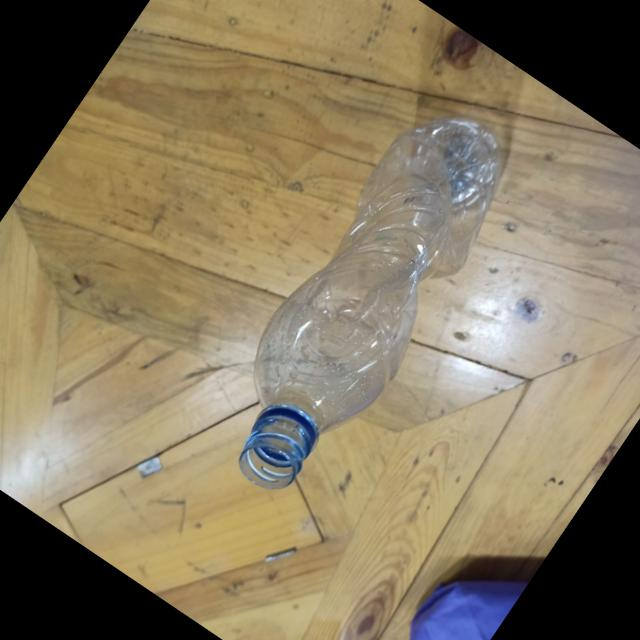BotolPlastik: (186, 88, 540, 518)
